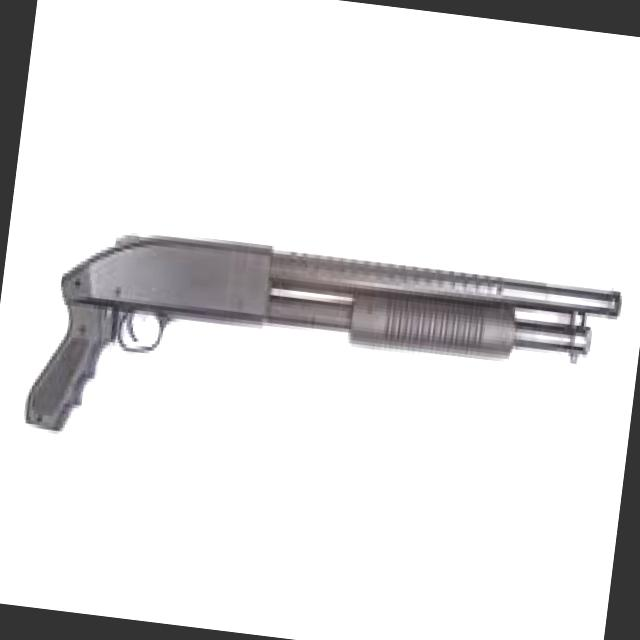long weapon: (13, 201, 629, 447)
